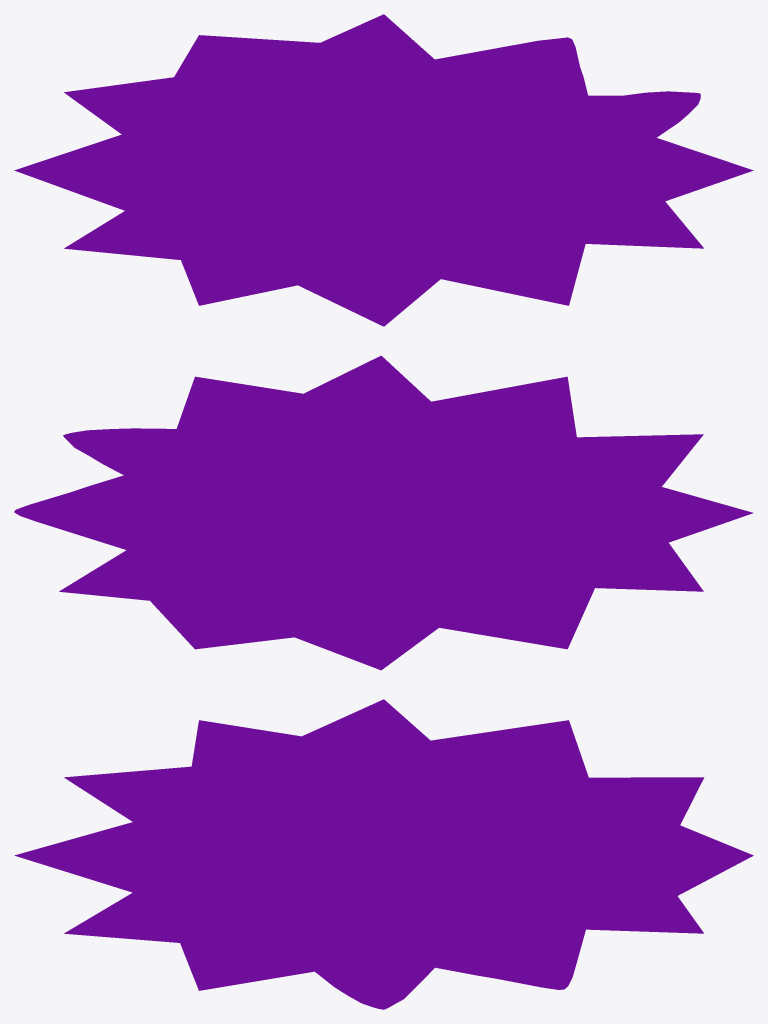
The model's file is FlowerPlane.fbx.
The picture shows the model from 3 angles, top to bottom: view 1: azimuth 30°, elevation 25°; view 2: azimuth 150°, elevation 25°; view 3: azimuth 270°, elevation 25°; orthographic projection.
Visible parts, largest first — view 1: pDisc1; view 2: pDisc1; view 3: pDisc1.
Boxes of the visible parts, bbox=[...] form: pDisc1: bbox=[14, 14, 753, 326]; pDisc1: bbox=[14, 355, 753, 670]; pDisc1: bbox=[14, 699, 753, 1009].
Bounding box in the file's own units: 10 × 0.0199 × 10.06.
